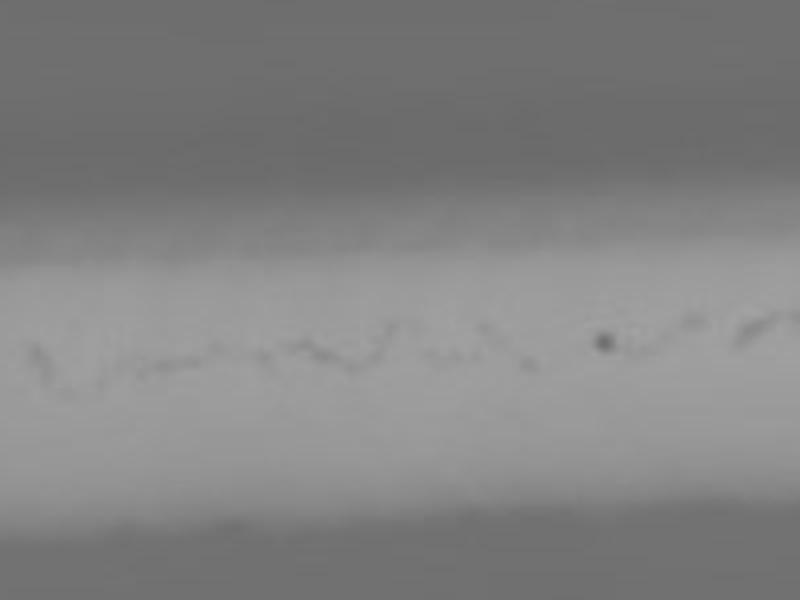defect: (28, 344, 54, 389), (249, 342, 281, 376), (151, 355, 201, 375), (731, 325, 761, 356), (367, 333, 394, 364), (678, 310, 711, 335), (47, 381, 75, 409), (592, 330, 616, 362), (747, 314, 785, 334), (420, 341, 448, 368), (308, 346, 346, 365), (516, 349, 542, 375), (474, 317, 499, 340), (91, 375, 113, 401), (340, 355, 364, 377), (285, 335, 314, 352), (378, 320, 399, 341), (445, 347, 465, 369), (134, 367, 152, 389)
